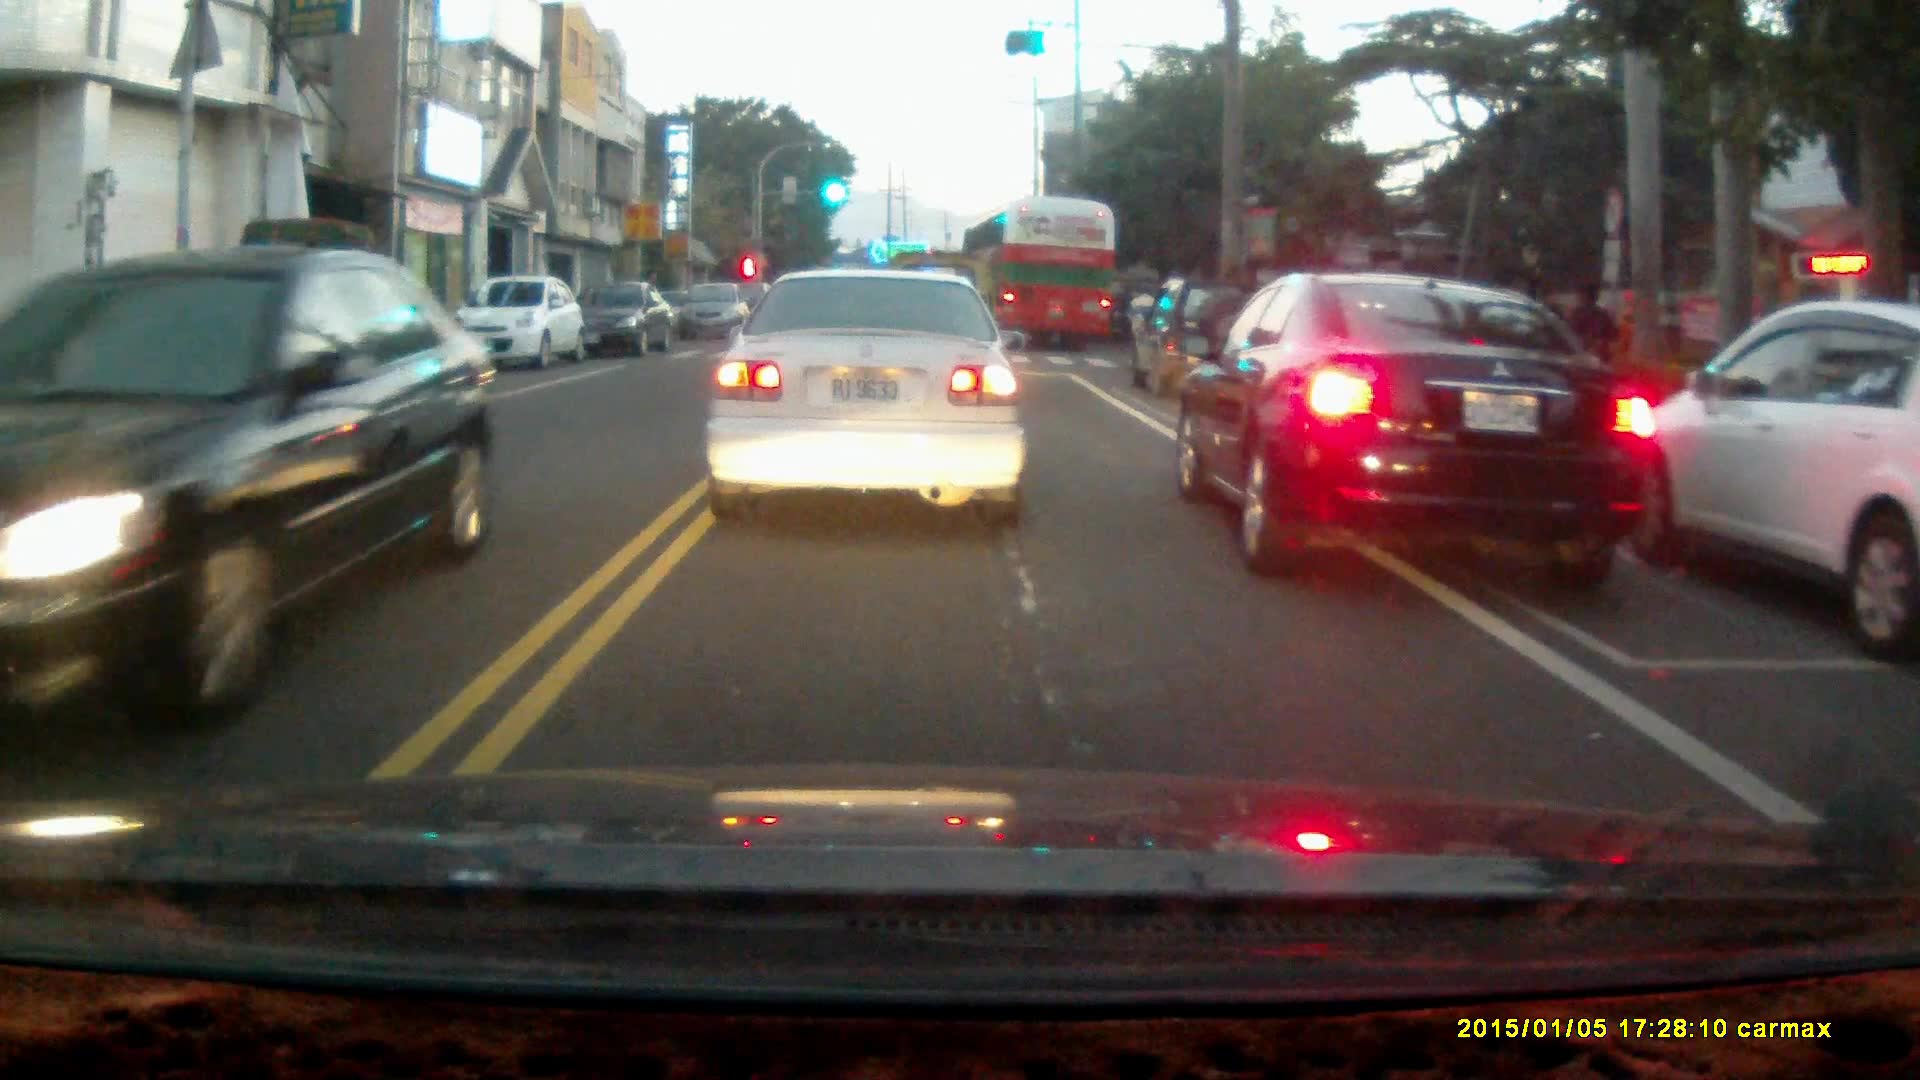pedestrian: (1565, 278, 1616, 406)
vehicle: (1, 247, 499, 752), (1175, 274, 1664, 577), (1605, 297, 1920, 618), (704, 264, 1029, 528), (188, 215, 427, 407), (963, 202, 1116, 356), (1134, 279, 1286, 401), (451, 278, 591, 377), (570, 277, 678, 362), (679, 284, 755, 343)
